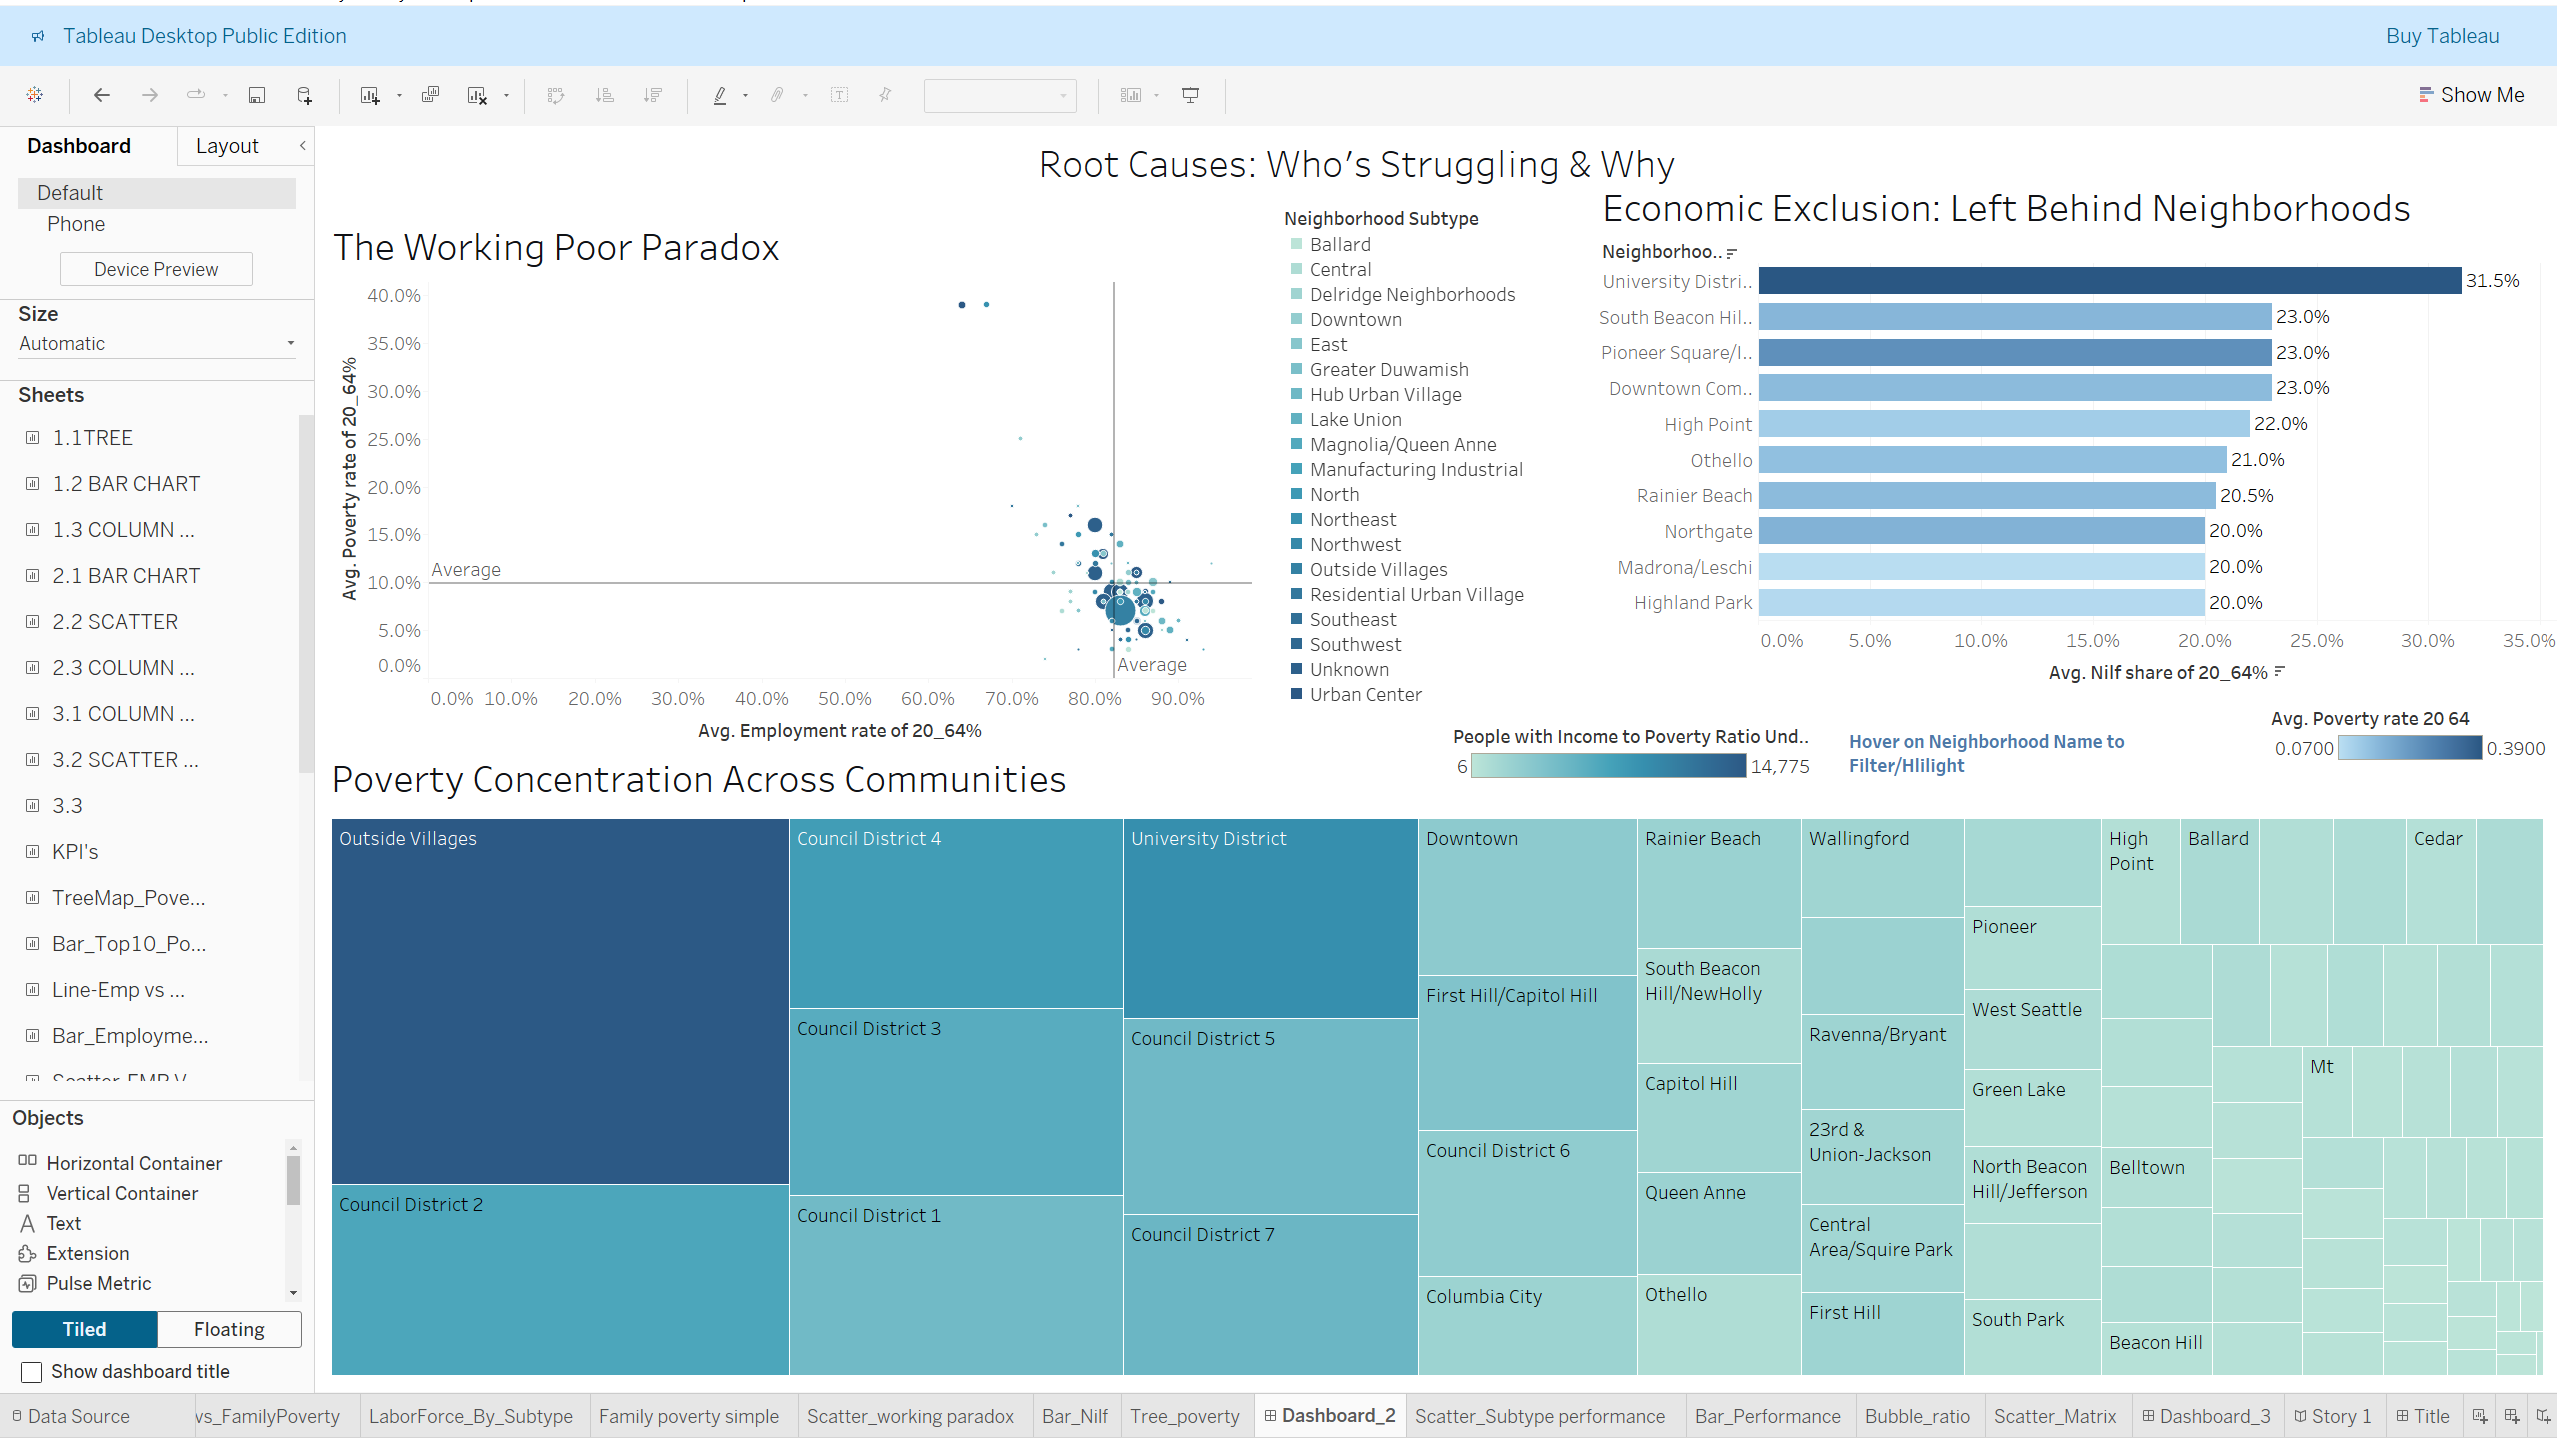

What the dashboard file says about the page in this screenshot:
{"tool":"tableau","page":{"name":"Dashboard_2","canvas":[1000,1000],"units":"permille","ordinal":1},"visuals":[{"type":"title","box":[3.6,6.3,921,45.8]},{"type":"worksheet","title":"Bar_Nilf","mark":"Automatic","rows":["Neighborhood Name"],"cols":["Nilf_share_20_64"],"box":[571.6,41.1,428.4,405.2]},{"type":"legend","title":"Scatter_working paradox","param":"[federated.032xgio0byku2z1ev66fd0881gxh].[none:Neighborhood Subtype:nk]","box":[432,62.4,135.9,395.7]},{"type":"worksheet","title":"Scatter_working paradox","mark":"Circle","rows":["Poverty_rate_20_64"],"cols":["Employment_rate_20_64"],"box":[6.1,71.9,411.3,420.2]},{"type":"legend","title":"Bar_Nilf","param":"[federated.032xgio0byku2z1ev66fd0881gxh].[avg:Poverty_rate_20_64:qk]","box":[871.7,457.4,124.7,60]},{"type":"legend","title":"Tree_poverty","param":"[federated.032xgio0byku2z1ev66fd0881gxh].[sum:People with Income to Poverty Rati","box":[506.9,471.6,161.5,57.7]},{"type":"text","box":[681.9,472.4,152.1,45.8]},{"type":"worksheet","title":"Tree_poverty","mark":"Automatic","box":[3.6,488.9,992.8,504.7]}]}

Visuals, with their boxes on the dashboard's canvas, which has no fixed pixel size, in thousandths of its width and height (x1, y1, x2, y2). These are canvas units, not pixel positions in the 2557x1438 screenshot, which may show the page scaled, cropped or inside an application window:
title: 4,6,925,52
"Bar_Nilf" worksheet: 572,41,1000,446
"Scatter_working paradox" legend: 432,62,568,458
"Scatter_working paradox" worksheet (Circle marks): 6,72,417,492
"Bar_Nilf" legend: 872,457,996,517
"Tree_poverty" legend: 507,472,668,529
text: 682,472,834,518
"Tree_poverty" worksheet: 4,489,996,994
